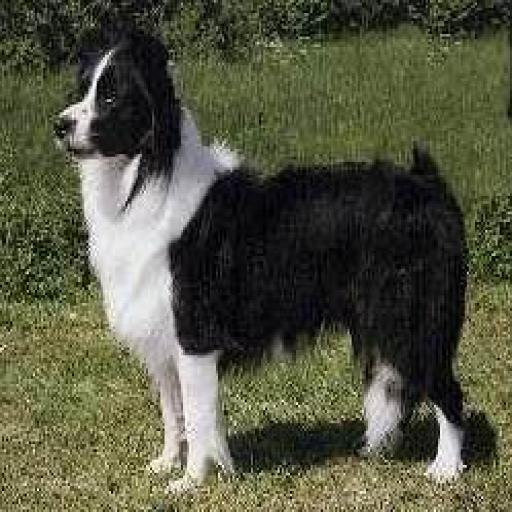dog_face: (56, 33, 178, 184)
